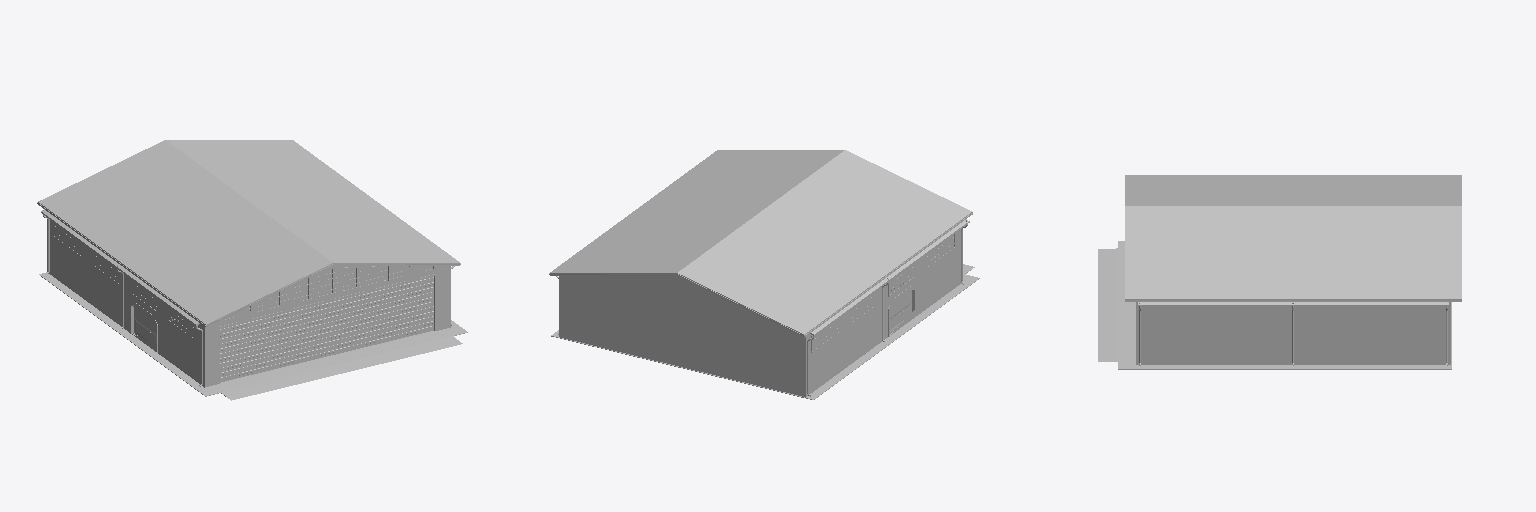
Rendered from Airport Hangar.obj.
3 views of the same model, side by side, from view 1: azimuth 30°, elevation 25°; view 2: azimuth 150°, elevation 25°; view 3: azimuth 270°, elevation 25° (orthographic).
Parts seen in each view (by area): view 1: roof_Cube.002, structure_Cube.001, floor_Cube.031, door_under_Cube.038, door_uper_Cube.008, gutter_1_Cube.005, front_door_frame_Cube.020, front_window_middle_Cube.010; view 2: roof_Cube.002, structure_Cube.001, floor_Cube.031, gutter_1_Cube.005; view 3: roof_Cube.002, structure_Cube.001, floor_Cube.031, gutter_2_Cube.005, side_windows_right_Cube.033.
Boxes of the visible parts, x1=… form: roof_Cube.002: x1=37, y1=140, x2=460, y2=327; structure_Cube.001: x1=49, y1=220, x2=448, y2=386; floor_Cube.031: x1=39, y1=272, x2=467, y2=400; door_under_Cube.038: x1=220, y1=303, x2=433, y2=382; door_uper_Cube.008: x1=220, y1=276, x2=433, y2=354; gutter_1_Cube.005: x1=41, y1=209, x2=199, y2=325; front_door_frame_Cube.020: x1=219, y1=274, x2=436, y2=383; front_window_middle_Cube.010: x1=317, y1=268, x2=338, y2=297; roof_Cube.002: x1=549, y1=150, x2=972, y2=337; structure_Cube.001: x1=561, y1=229, x2=961, y2=396; floor_Cube.031: x1=551, y1=264, x2=979, y2=399; gutter_1_Cube.005: x1=810, y1=219, x2=969, y2=335; roof_Cube.002: x1=1125, y1=175, x2=1461, y2=301; structure_Cube.001: x1=1141, y1=306, x2=1445, y2=364; floor_Cube.031: x1=1098, y1=241, x2=1451, y2=369; gutter_2_Cube.005: x1=1138, y1=302, x2=1448, y2=305; side_windows_right_Cube.033: x1=1152, y1=308, x2=1438, y2=324.
Bounding box in the file's own units: 38.53 × 13.9 × 46.34.